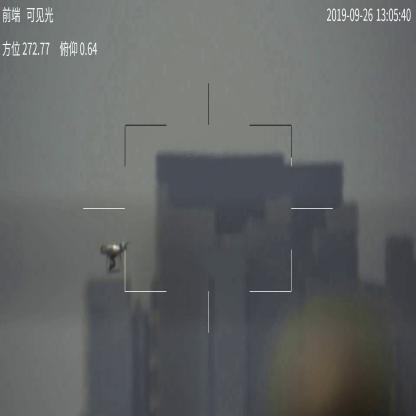uav: (98, 241, 134, 274)
